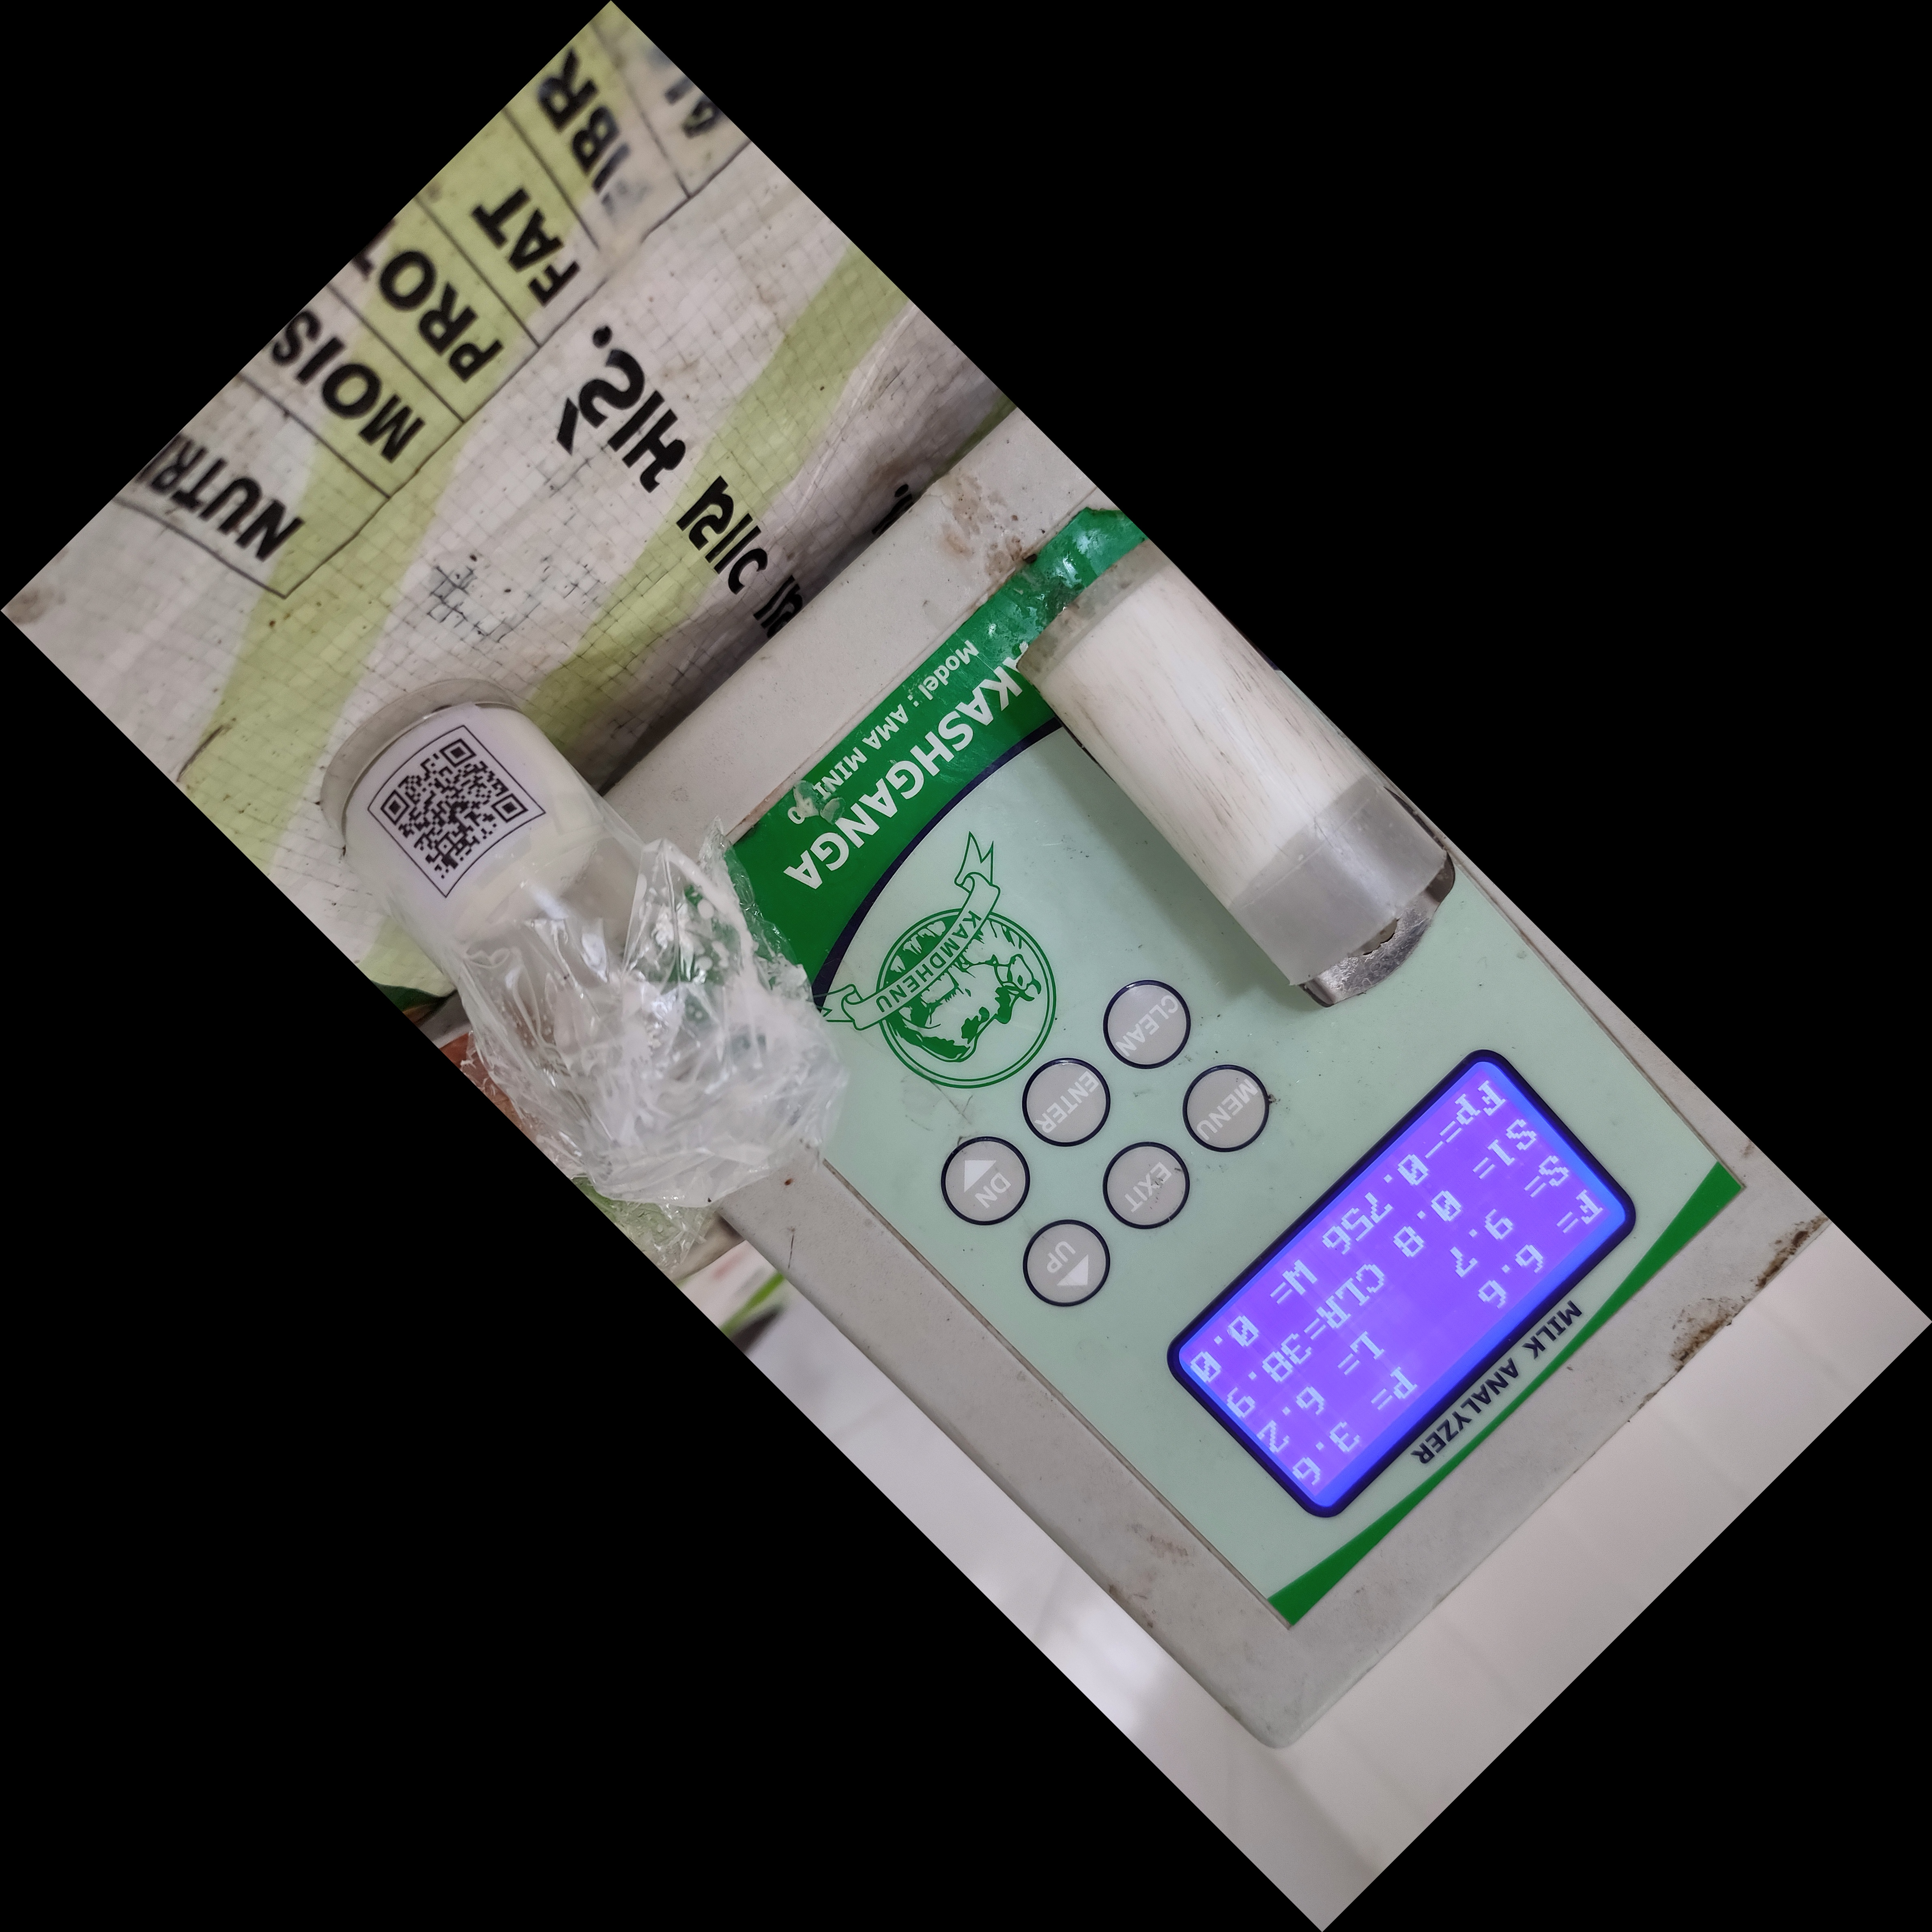lcd: (1115, 1019, 1658, 1543)
qr: (356, 697, 563, 906)
